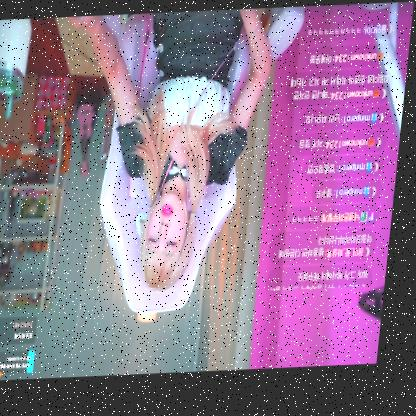streamer: (48, 10, 279, 296)
